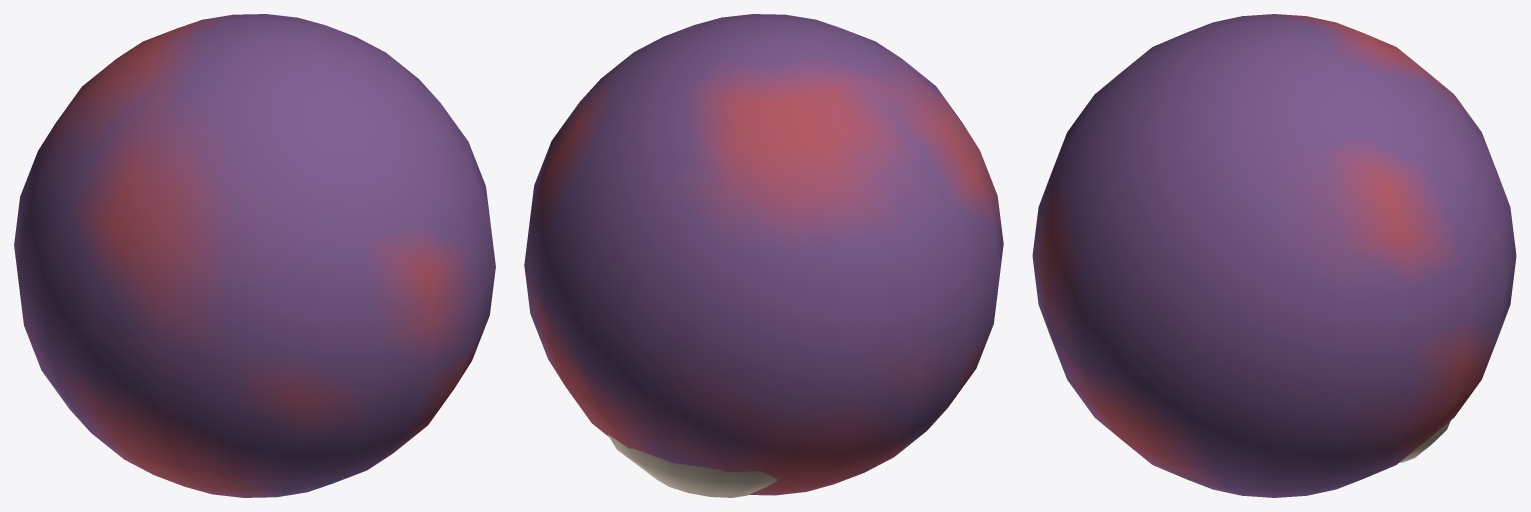
The model's file is torso_round.glb.
3 views of the same model, side by side, from view 1: azimuth 30°, elevation 25°; view 2: azimuth 150°, elevation 25°; view 3: azimuth 270°, elevation 25° (orthographic).
Visible parts, largest first — view 1: RoundTorso; view 2: RoundTorso, Belly; view 3: RoundTorso.
Boxes of the visible parts, x1,y1,x2,y2 form: RoundTorso: (14, 14, 495, 497); RoundTorso: (524, 14, 1003, 495); Belly: (607, 434, 777, 497); RoundTorso: (1032, 14, 1516, 497).
Bounding box in the file's own units: 0.72 × 0.72 × 0.72.
